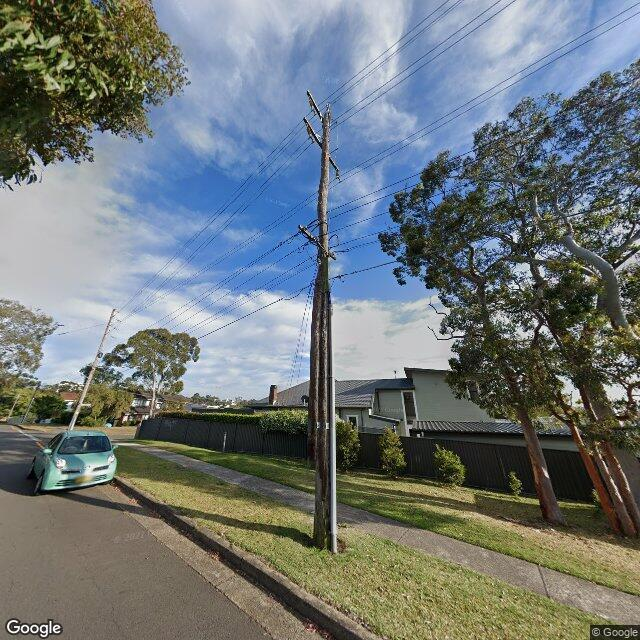HV-transmission: (304, 88, 342, 182), (106, 309, 123, 340)
crossarm: (304, 117, 338, 171), (298, 224, 337, 262), (306, 89, 321, 119)
timber-pole: (312, 108, 333, 549), (68, 308, 119, 432)
